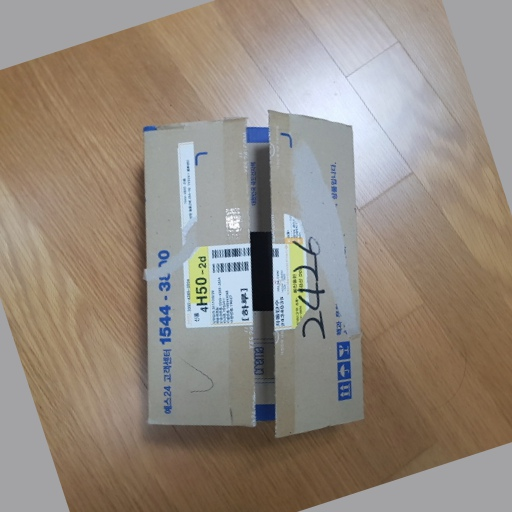Paper_0: (134, 108, 372, 441)
